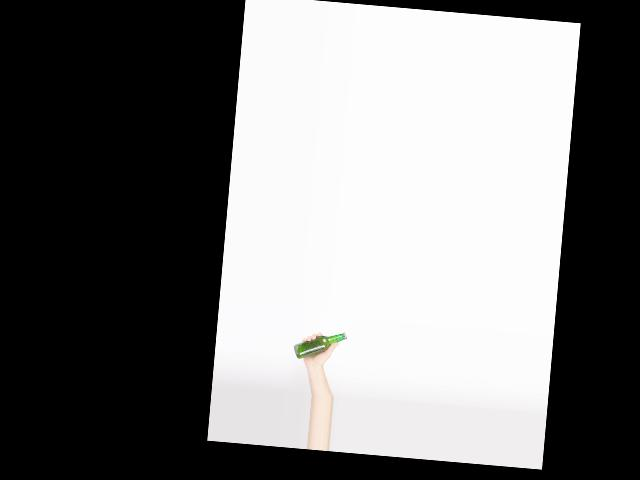beer: (292, 328, 347, 362)
